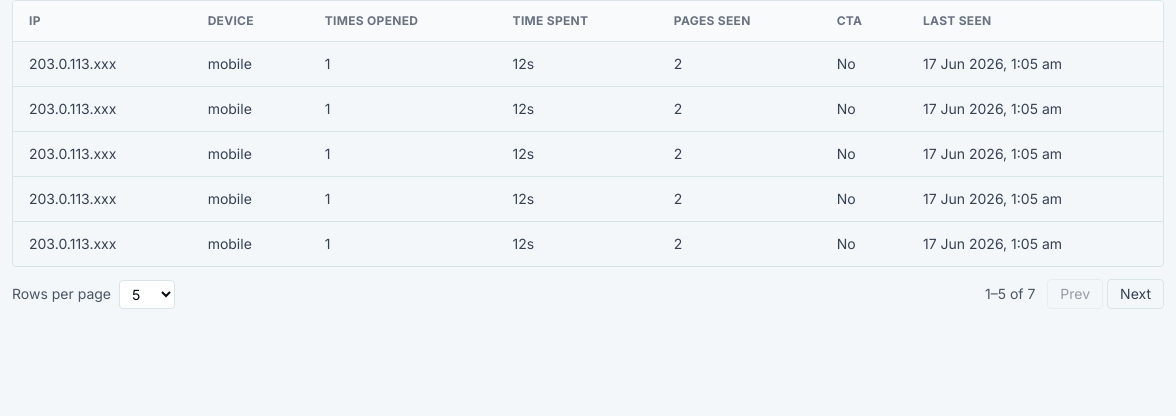
ViewerAnalyticsTable (non-gated) › changes rows per page
Select "10" in the dropdown labelled "Rows per page" at (147,294), box [119,280,175,308]
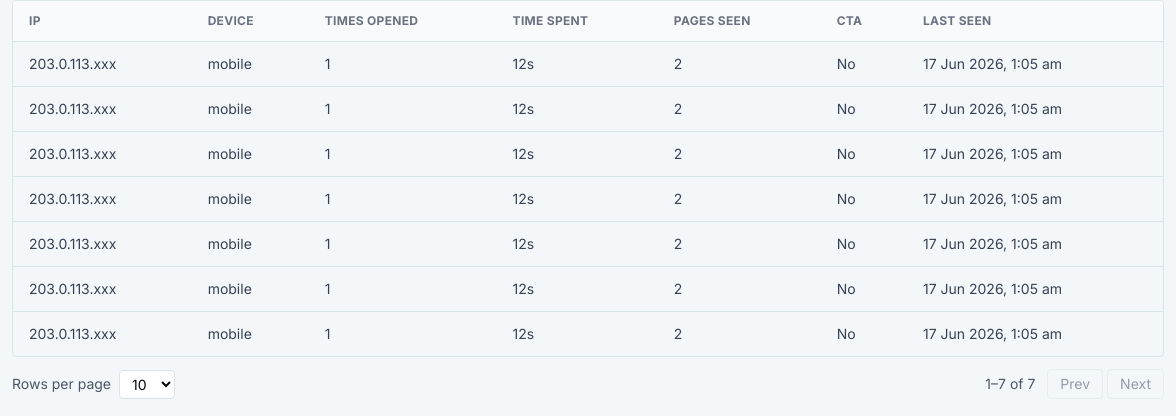
Expected: the number of buttons named "view per-page breakdown" is 7
Expected: the text "1–7 of 7" is shown, [985,374,1035,394]
